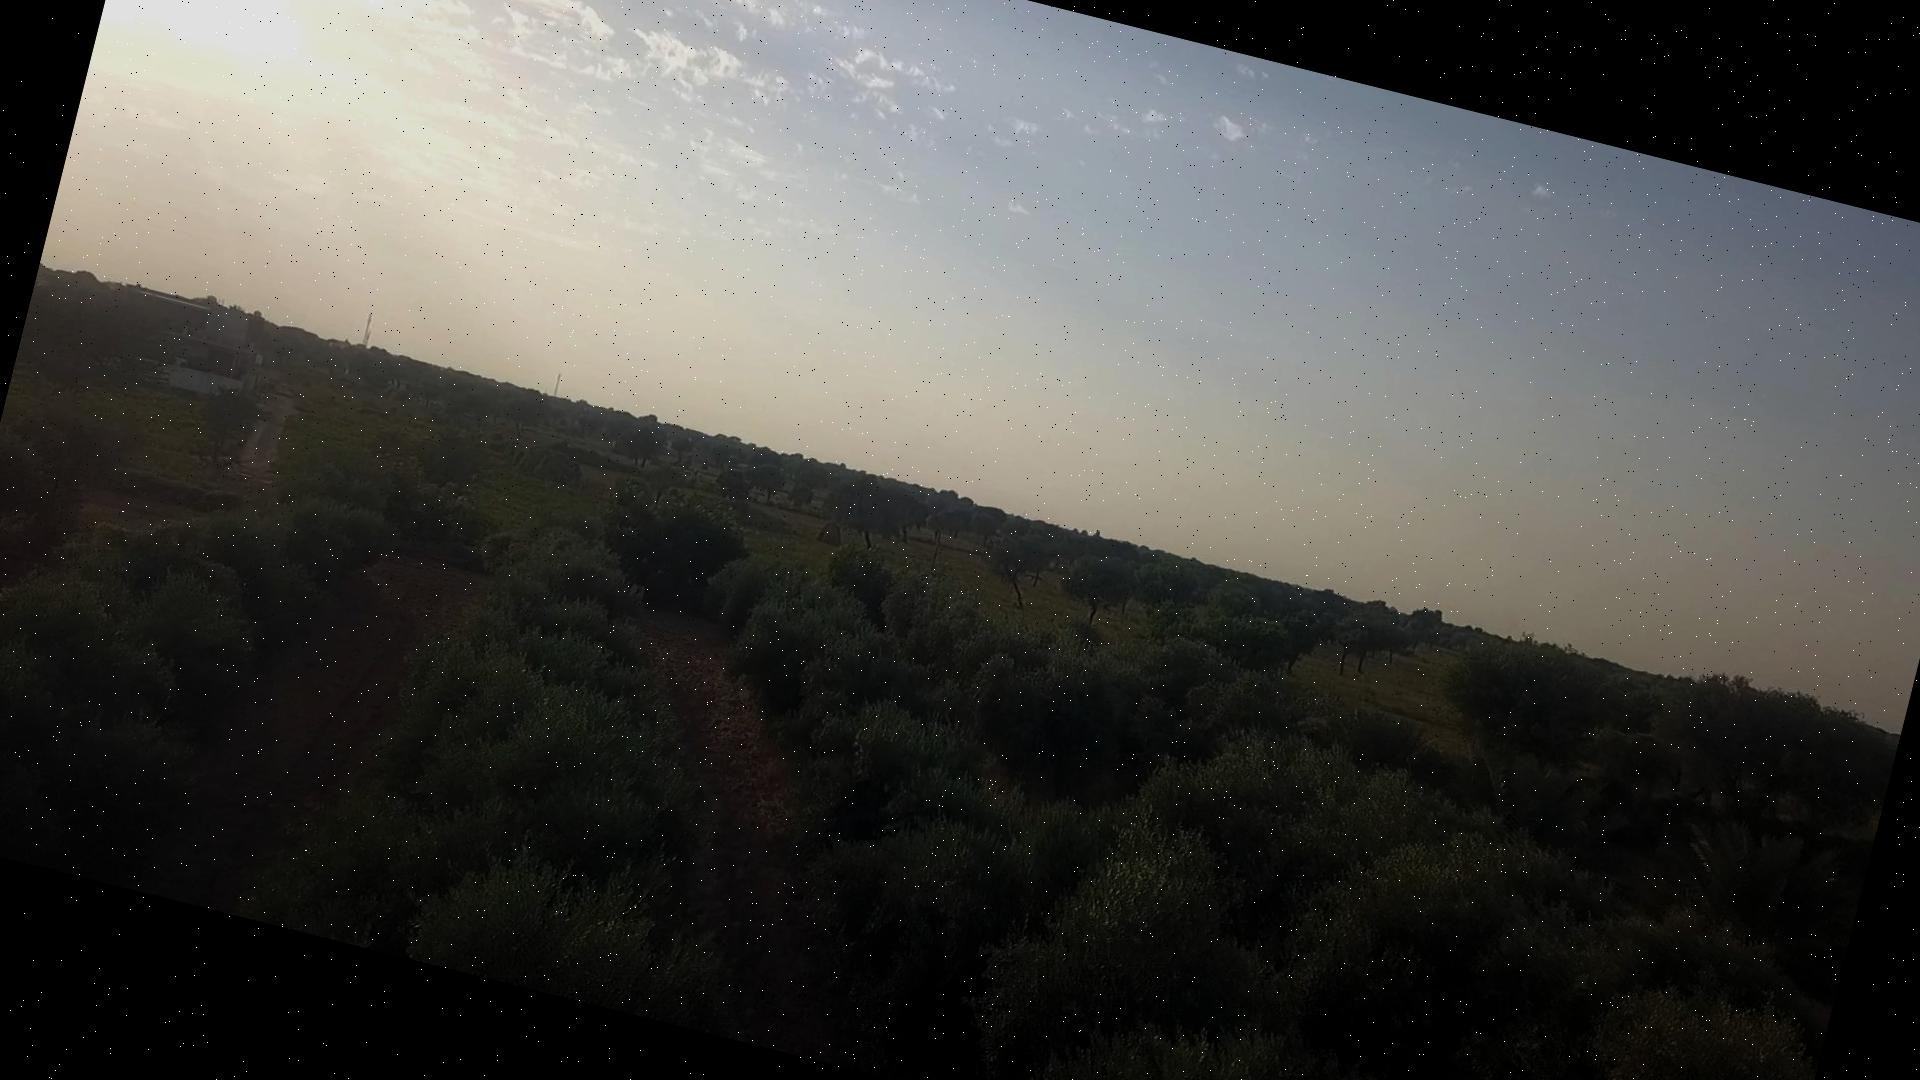canopy: (837, 554, 1825, 1080), (717, 562, 1369, 1080), (245, 535, 720, 1030), (0, 497, 401, 884), (0, 423, 112, 520)
road: (136, 555, 488, 911), (632, 611, 876, 1069), (0, 488, 194, 587)
